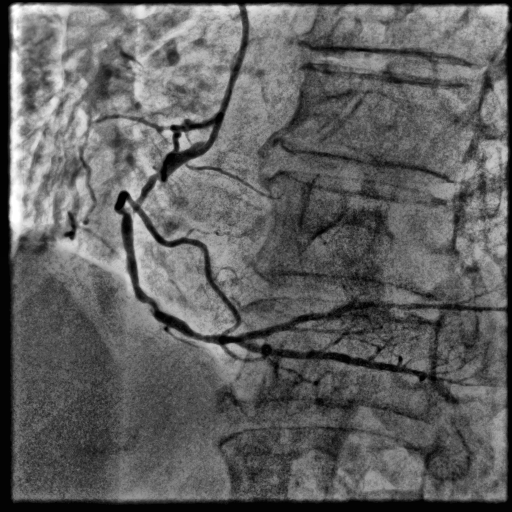pborca: (237, 303, 511, 340)
pda: (235, 340, 428, 379)
rca: (121, 141, 242, 345)
